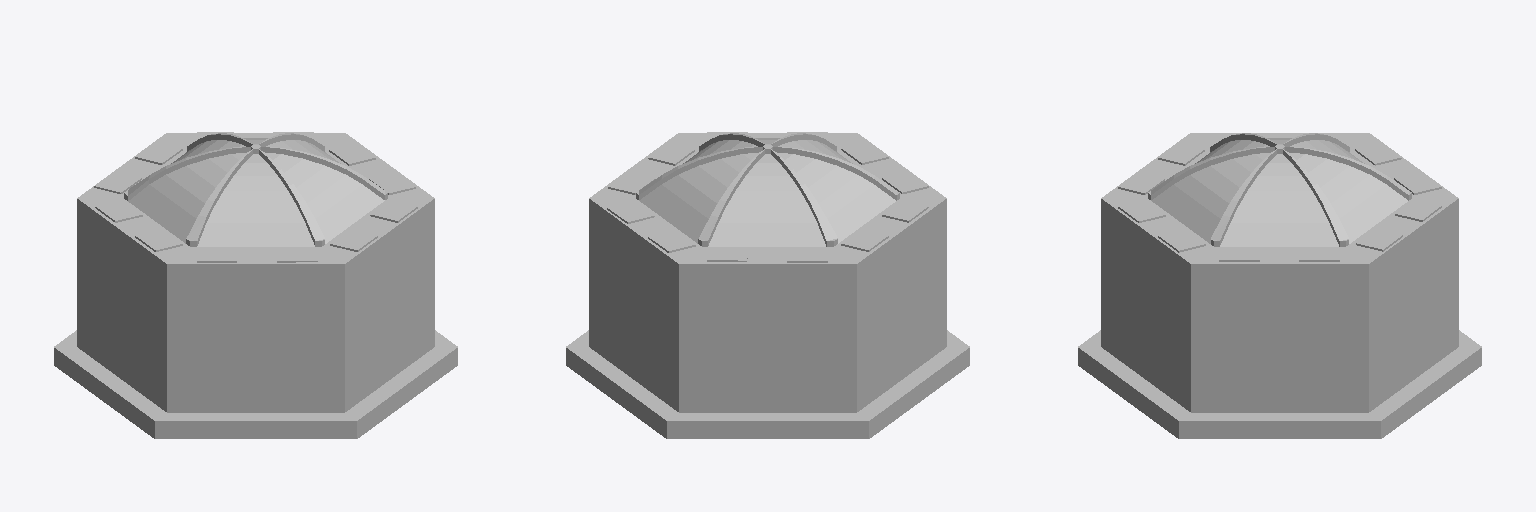
File: Laboratory.obj
The picture shows the model from 3 angles: view 1: azimuth 30°, elevation 25°; view 2: azimuth 150°, elevation 25°; view 3: azimuth 270°, elevation 25°; orthographic projection.
Parts seen in each view (by area): view 1: Solarpanels.002_Circle.005; view 2: Solarpanels.002_Circle.005; view 3: Solarpanels.002_Circle.005.
Boxes of the visible parts, box(x1,y1,x2,y2) form: Solarpanels.002_Circle.005: box(54, 132, 457, 438); Solarpanels.002_Circle.005: box(566, 132, 969, 438); Solarpanels.002_Circle.005: box(1078, 133, 1481, 438).
Size of the model in its own units: 0.7794 by 0.5369 by 0.9.